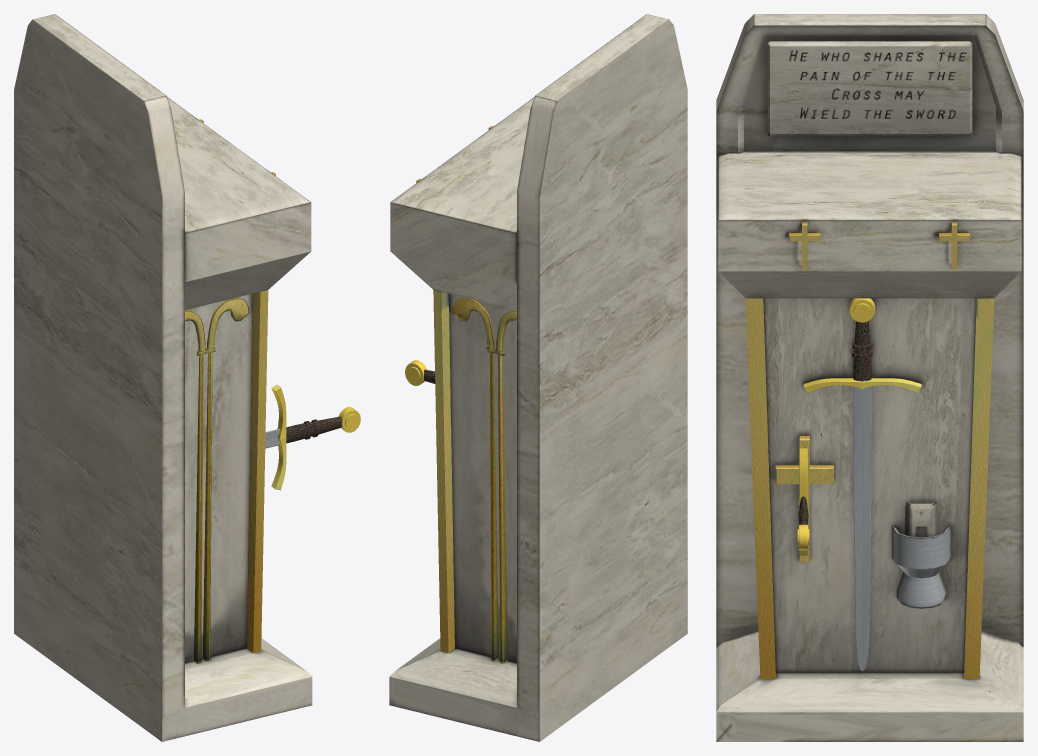
3 renders of one model, left to right at view 1: azimuth 30°, elevation 25°; view 2: azimuth 150°, elevation 25°; view 3: azimuth 270°, elevation 25°, orthographic. The views are drawn at different scales.
Visible parts, largest first — view 1: Vending_Machine; view 2: Vending_Machine; view 3: Vending_Machine.
Part boxes in pixels (left/top/right/bottom): Vending_Machine: left=14, top=14, right=360, bottom=741; Vending_Machine: left=389, top=14, right=687, bottom=741; Vending_Machine: left=716, top=14, right=1023, bottom=741.
Size of the model in its own units: 1.85 by 4.65 by 1.99.
1 material, 1 textured.
